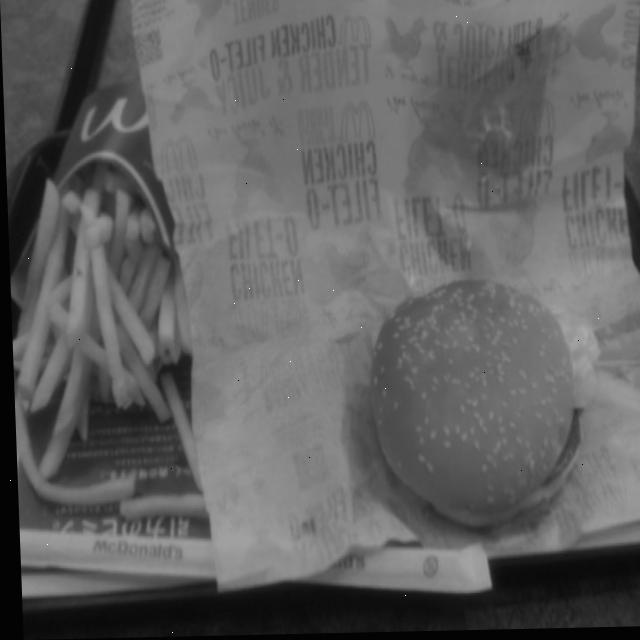汉堡快餐: (357, 265, 591, 551)
炸货点心: (2, 68, 209, 535)
